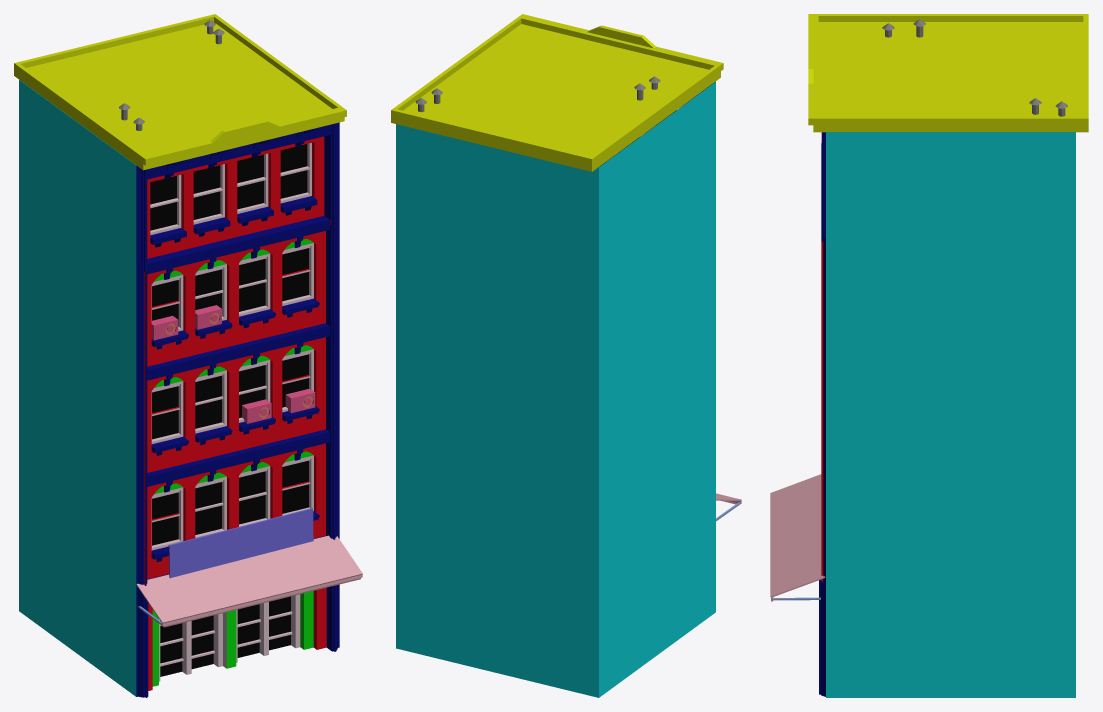
Rendered from Building11.fbx.
The picture shows the model from 3 angles, left to right: view 1: azimuth 30°, elevation 25°; view 2: azimuth 150°, elevation 25°; view 3: azimuth 270°, elevation 25°; orthographic projection. The views are drawn at different scales.
Parts seen in each view (by area): view 1: Building 11; view 2: Building 11; view 3: Building 11.
Boxes of the visible parts, bbox=[...] form: Building 11: bbox=[14, 14, 362, 697]; Building 11: bbox=[391, 14, 741, 697]; Building 11: bbox=[770, 14, 1088, 697].
Size of the model in its own units: 800 by 2084 by 1019.
